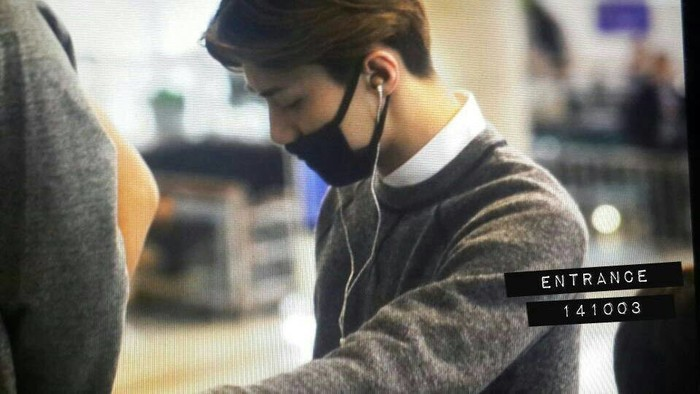face_mask: (242, 46, 389, 187)
